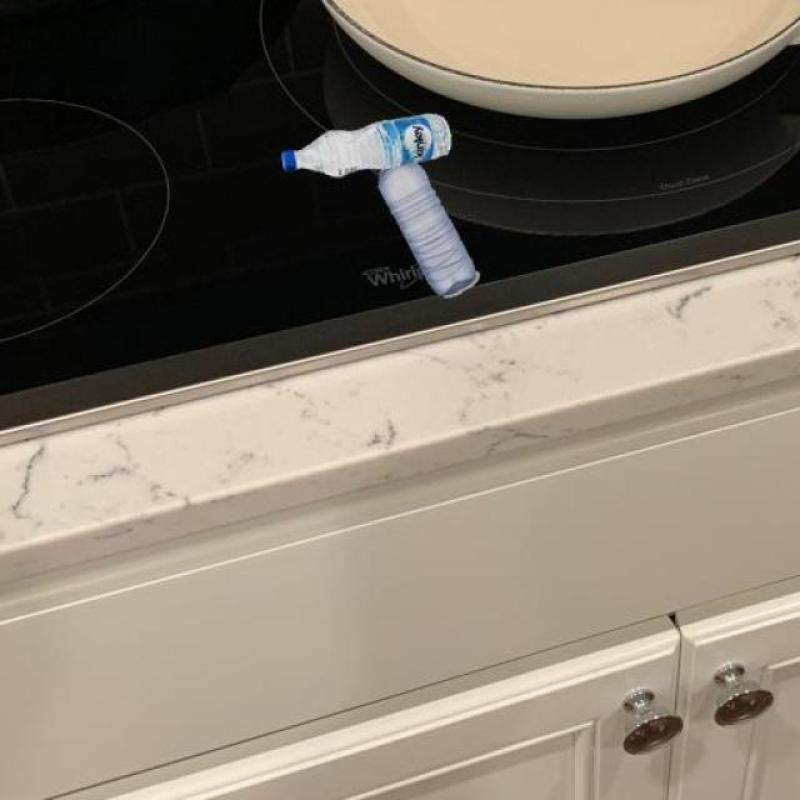botella: (378, 164, 478, 297), (281, 114, 454, 180)
